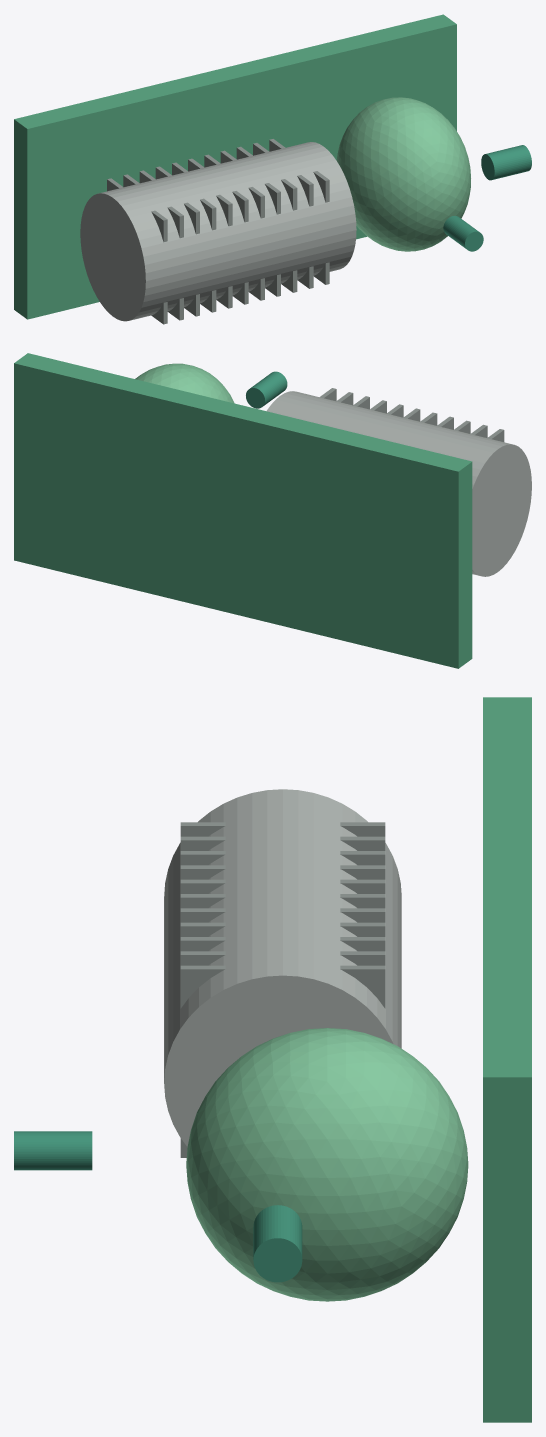
File: candidate-b.glb
3 renders of one model, top to bottom at view 1: azimuth 30°, elevation 25°; view 2: azimuth 150°, elevation 25°; view 3: azimuth 270°, elevation 25°, orthographic. The views are drawn at different scales.
Parts seen in each view (by area): view 1: equipment_base, motor, pump_casing, connector_inlet, connector_outlet, motor_fin_08, motor_fin_03, motor_fin_04, motor_fin_09, motor_fin_00, motor_fin_05, motor_fin_10 (+4 smaller); view 2: equipment_base, motor, pump_casing, connector_outlet; view 3: pump_casing, motor, equipment_base, connector_inlet, connector_outlet, motor_fin_10, motor_fin_01, motor_fin_04, motor_fin_07, motor_fin_03, motor_fin_06, motor_fin_09 (+4 smaller).
Part boxes in pixels (x1,y1,x2,y2): equipment_base: (14, 14, 456, 319); motor: (80, 142, 356, 321); pump_casing: (336, 97, 470, 251); connector_inlet: (481, 145, 531, 180); connector_outlet: (443, 216, 483, 251); motor_fin_08: (236, 146, 297, 292); motor_fin_03: (155, 166, 216, 312); motor_fin_04: (172, 162, 232, 308); motor_fin_09: (253, 143, 313, 288); motor_fin_00: (107, 178, 167, 324); motor_fin_05: (188, 158, 248, 304); motor_fin_10: (269, 139, 329, 284); equipment_base: (14, 353, 472, 668); motor: (266, 391, 531, 576); pump_casing: (135, 363, 234, 403); connector_outlet: (246, 371, 287, 408); pump_casing: (186, 1028, 468, 1301); motor: (164, 789, 401, 1146); equipment_base: (483, 697, 531, 1422); connector_inlet: (253, 1205, 302, 1282); connector_outlet: (14, 1131, 92, 1170); motor_fin_10: (180, 965, 385, 1157); motor_fin_01: (180, 836, 385, 850); motor_fin_04: (180, 879, 385, 893); motor_fin_07: (180, 922, 385, 936); motor_fin_03: (180, 865, 385, 879); motor_fin_06: (180, 908, 385, 922); motor_fin_09: (180, 951, 385, 965).
Size of the model in its own units: 1.89 by 0.78 by 1.06.
